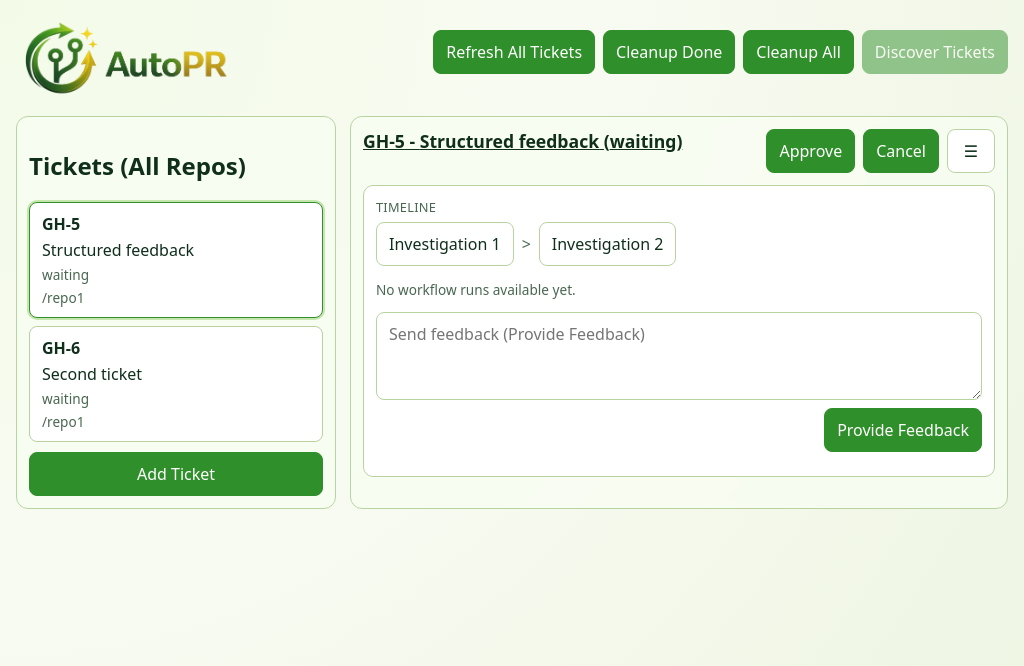
Scenario: App › keeps another ticket actionable while one ticket has an optimistic pending job
Click the button "Approve". click: coordinates (811, 151)
box: [766,129,855,173]
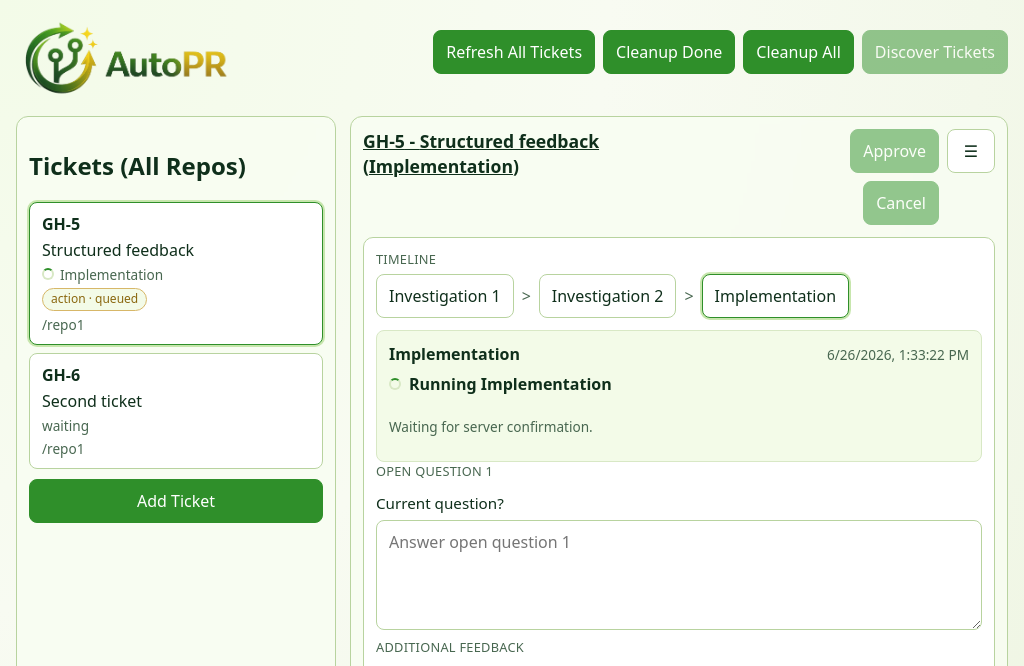
expect the number of elements named "Worker running" is 1: met, box [42,268,54,280]
Click the button "GH-6 Second ticket waiting /repo1". click: coordinates (61, 375)
box: [29,353,323,469]
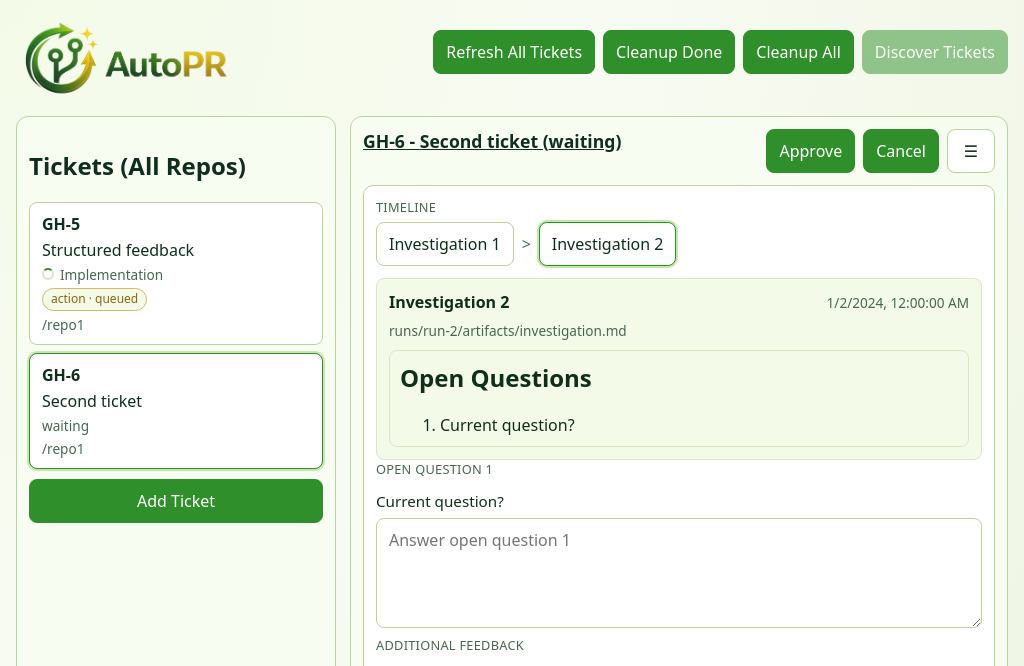
expect the button "Approve" is enabled: met, box [766,129,855,173]
